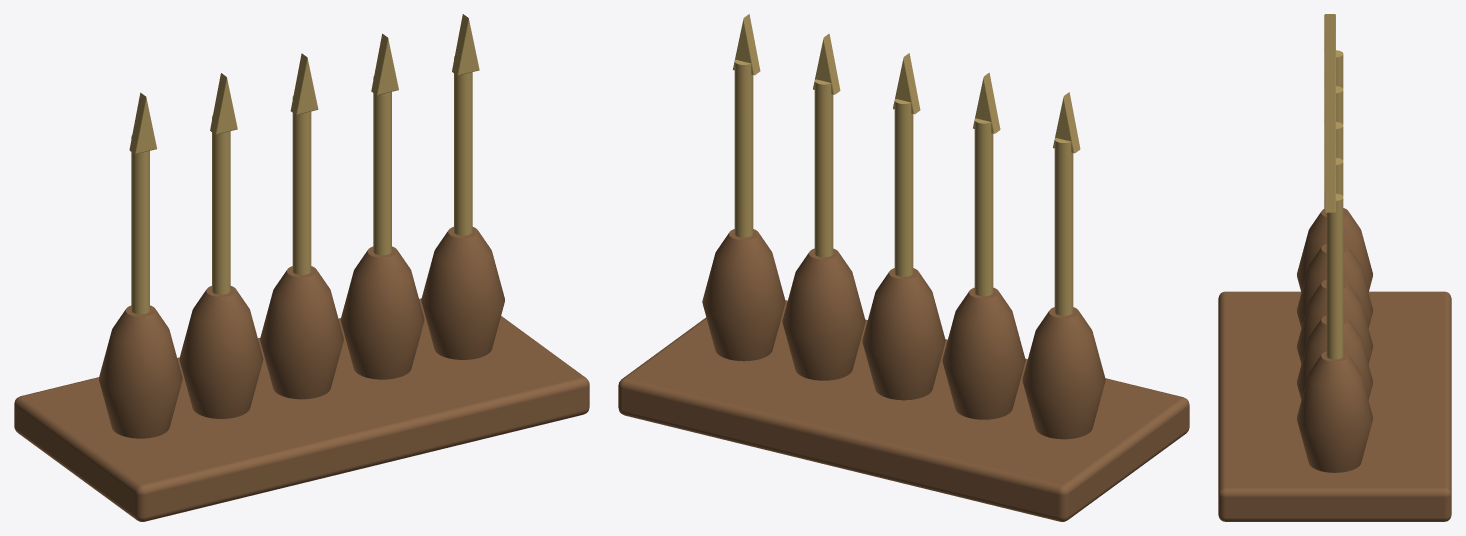
Rendered from fantasy-cartographers-map-printing-guild-burin-tool-ra-ad595e99__32249.glb.
3 renders of one model, left to right at view 1: azimuth 30°, elevation 25°; view 2: azimuth 150°, elevation 25°; view 3: azimuth 270°, elevation 25°, orthographic. The views are drawn at different scales.
Parts seen in each view (by area): view 1: burin-tool-rack; view 2: burin-tool-rack; view 3: burin-tool-rack.
Boxes of the visible parts, x1,y1,x2,y2 form: burin-tool-rack: (14,14,589,521); burin-tool-rack: (618,14,1189,521); burin-tool-rack: (1218,14,1451,521).
Bounding box in the file's own units: 0.45 × 0.3514 × 0.22.
